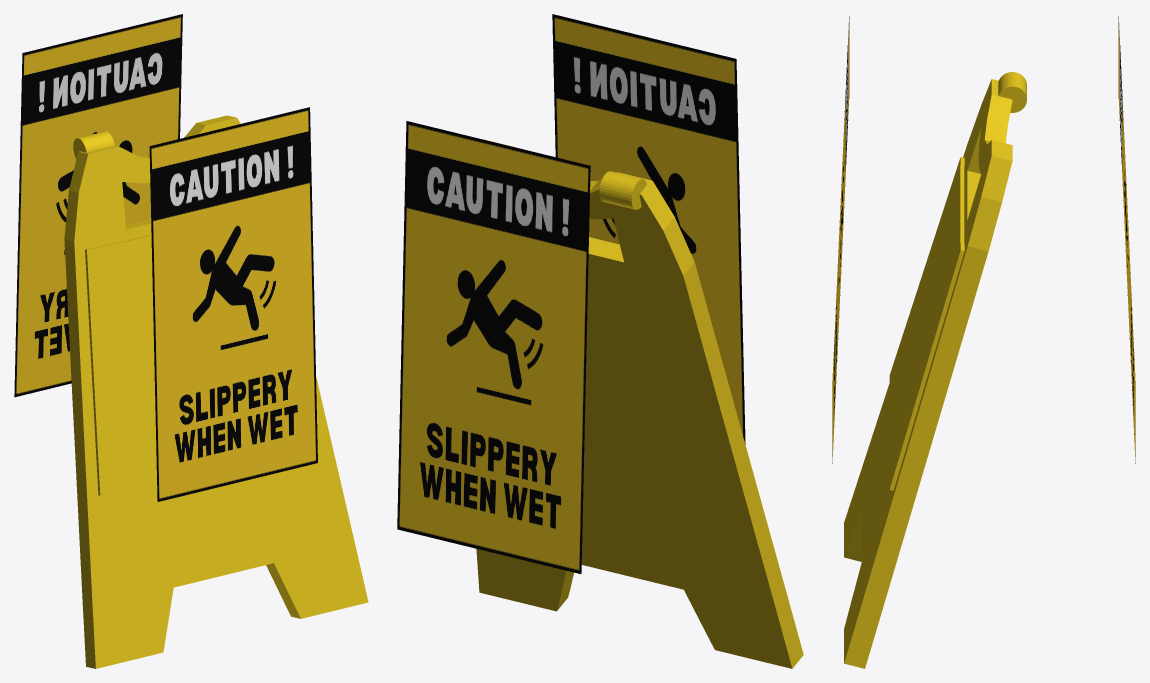
The model's file is CautionWetSign(microCenter).glb.
3 views of the same model, side by side, from view 1: azimuth 30°, elevation 25°; view 2: azimuth 150°, elevation 25°; view 3: azimuth 270°, elevation 25° (orthographic). The views are drawn at different scales.
Visible parts, largest first — view 1: Cube, Caution_Wet_Floor(microCENTER).001, Caution_Wet_Floor(microCENTER), Cylinder; view 2: Caution_Wet_Floor(microCENTER), Cube, Caution_Wet_Floor(microCENTER).001, Cylinder; view 3: Cube, Caution_Wet_Floor(microCENTER), Caution_Wet_Floor(microCENTER).001, Cylinder.
Boxes of the visible parts, x1,y1,x2,y2 form: Cube: [64, 115, 368, 668]; Caution_Wet_Floor(microCENTER).001: [149, 107, 317, 501]; Caution_Wet_Floor(microCENTER): [14, 14, 182, 397]; Cylinder: [73, 131, 114, 158]; Caution_Wet_Floor(microCENTER): [397, 121, 590, 573]; Cube: [476, 139, 803, 668]; Caution_Wet_Floor(microCENTER).001: [552, 14, 745, 444]; Cylinder: [599, 171, 646, 209]; Cube: [844, 79, 1012, 668]; Caution_Wet_Floor(microCENTER): [1118, 16, 1135, 463]; Caution_Wet_Floor(microCENTER).001: [832, 16, 849, 463]; Cylinder: [998, 72, 1026, 112].
Size of the model in its own units: 2.92 by 5.24 by 2.65.
2 materials, 1 textured.
